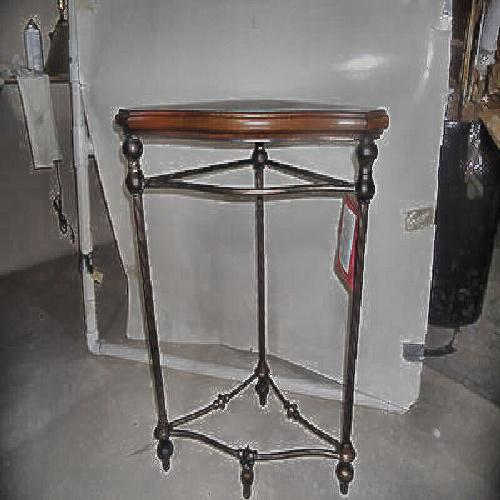table: (116, 96, 387, 475)
